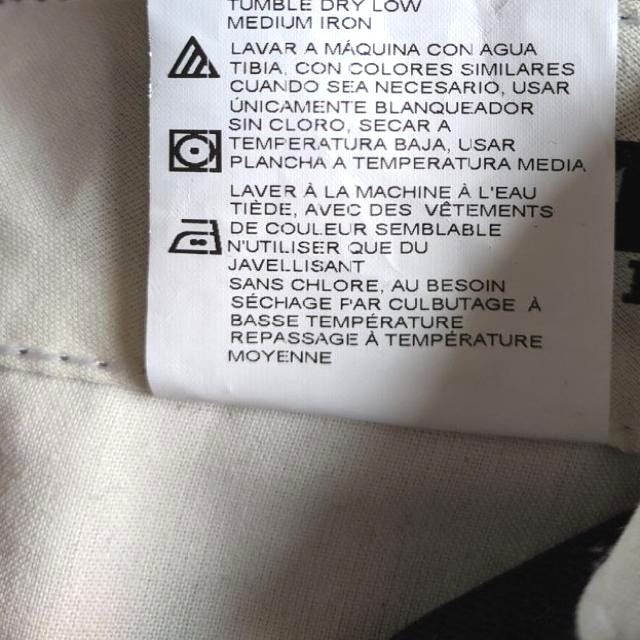iron_medium: (171, 214, 226, 256)
non_chlorine_bleach: (167, 31, 224, 87)
tumble_dry_low: (163, 125, 225, 175)
